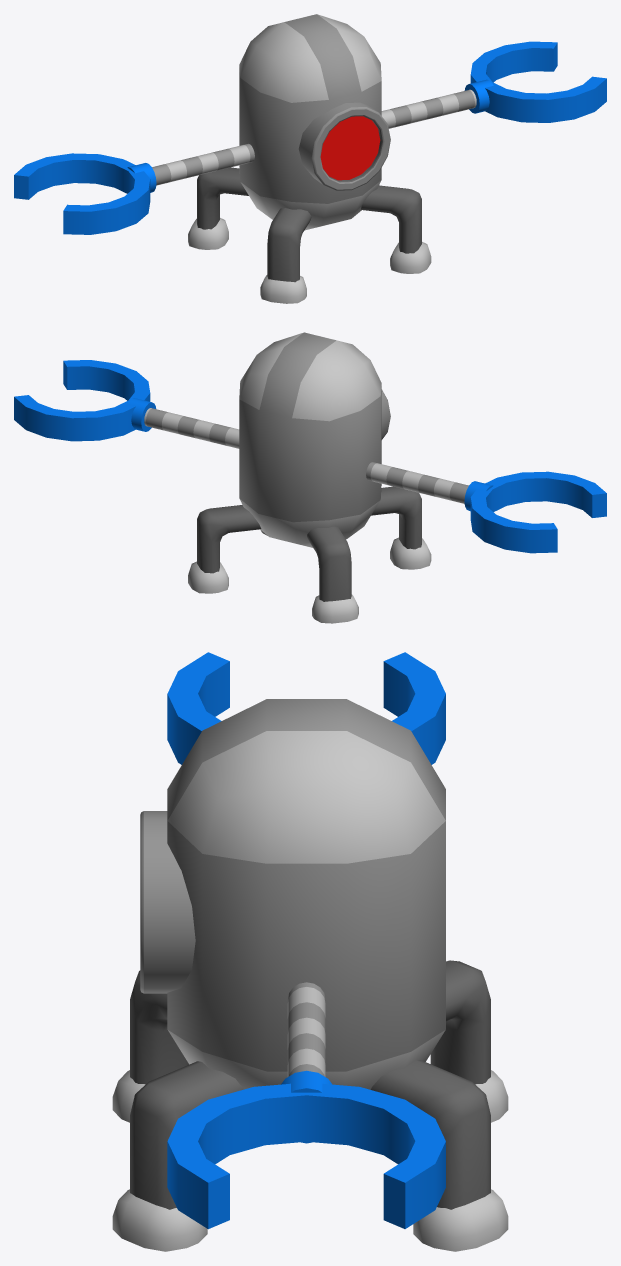
Rendered from enemy-s-003.fbx.
The picture shows the model from 3 angles, top to bottom: view 1: azimuth 30°, elevation 25°; view 2: azimuth 150°, elevation 25°; view 3: azimuth 270°, elevation 25°; orthographic projection. The views are drawn at different scales.
Parts seen in each view (by area): view 1: enemy-s-003; view 2: enemy-s-003; view 3: enemy-s-003.
Part boxes in pixels (x1,y1,x2,y2): enemy-s-003: [14, 14, 606, 303]; enemy-s-003: [14, 332, 606, 623]; enemy-s-003: [112, 652, 508, 1251].
Size of the model in its own units: 9.02 by 3.61 by 2.84.
